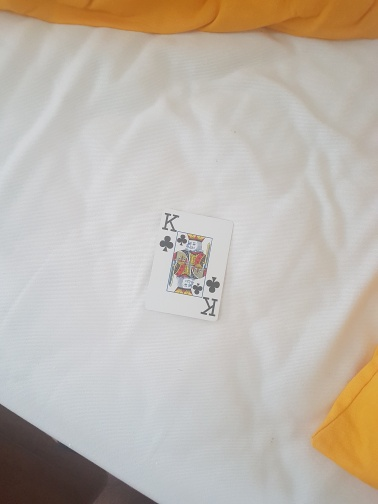king: (143, 209, 234, 321)
